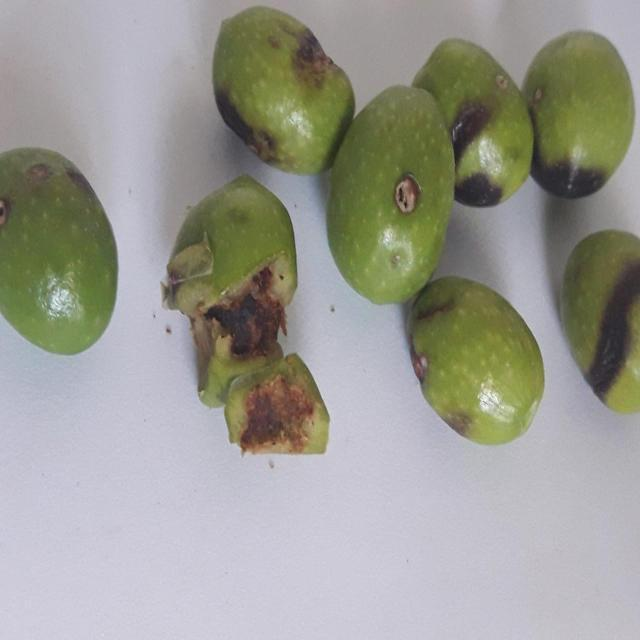Anthracnose: (162, 176, 298, 406), (327, 86, 455, 304), (0, 148, 118, 355), (212, 7, 354, 175), (408, 278, 545, 444), (412, 39, 533, 206), (522, 32, 634, 198), (561, 230, 640, 413), (225, 353, 329, 454)
